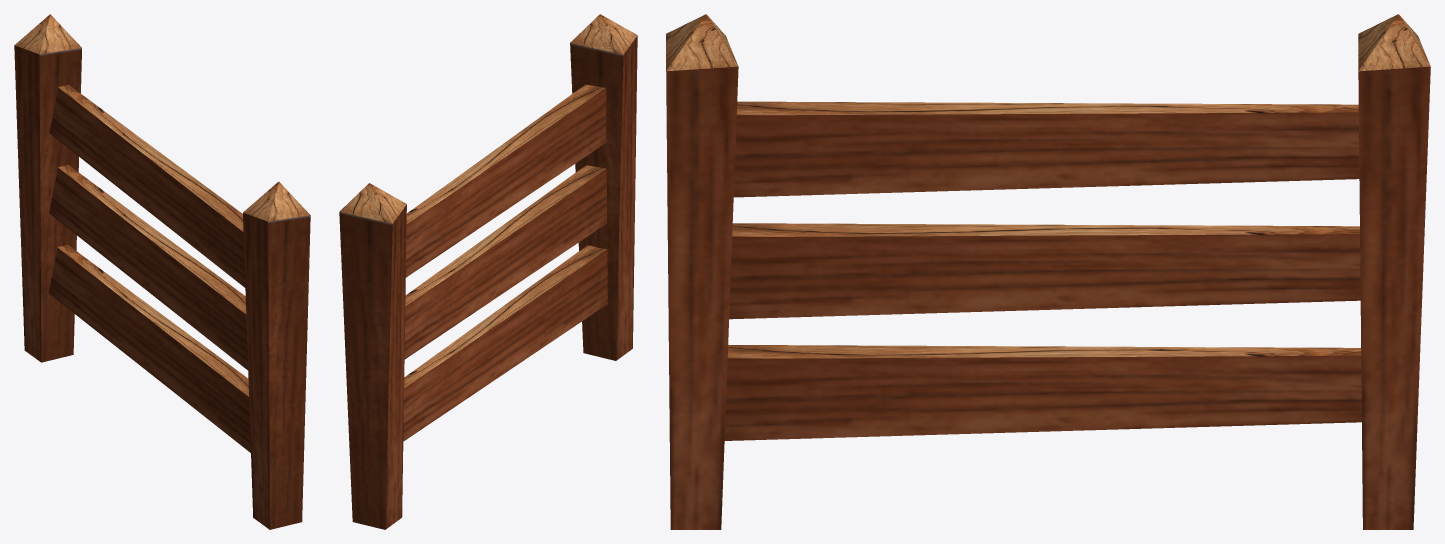
File: corral_001.fbx
The picture shows the model from 3 angles, left to right: view 1: azimuth 30°, elevation 25°; view 2: azimuth 150°, elevation 25°; view 3: azimuth 270°, elevation 25°; orthographic projection. The views are drawn at different scales.
Parts seen in each view (by area): view 1: corral.001; view 2: corral.001; view 3: corral.001.
Boxes of the visible parts, x1,y1,x2,y2 form: corral.001: (14, 14, 310, 529); corral.001: (339, 14, 637, 529); corral.001: (666, 14, 1430, 529).
Size of the model in its own units: 21.4 by 141 by 192.
